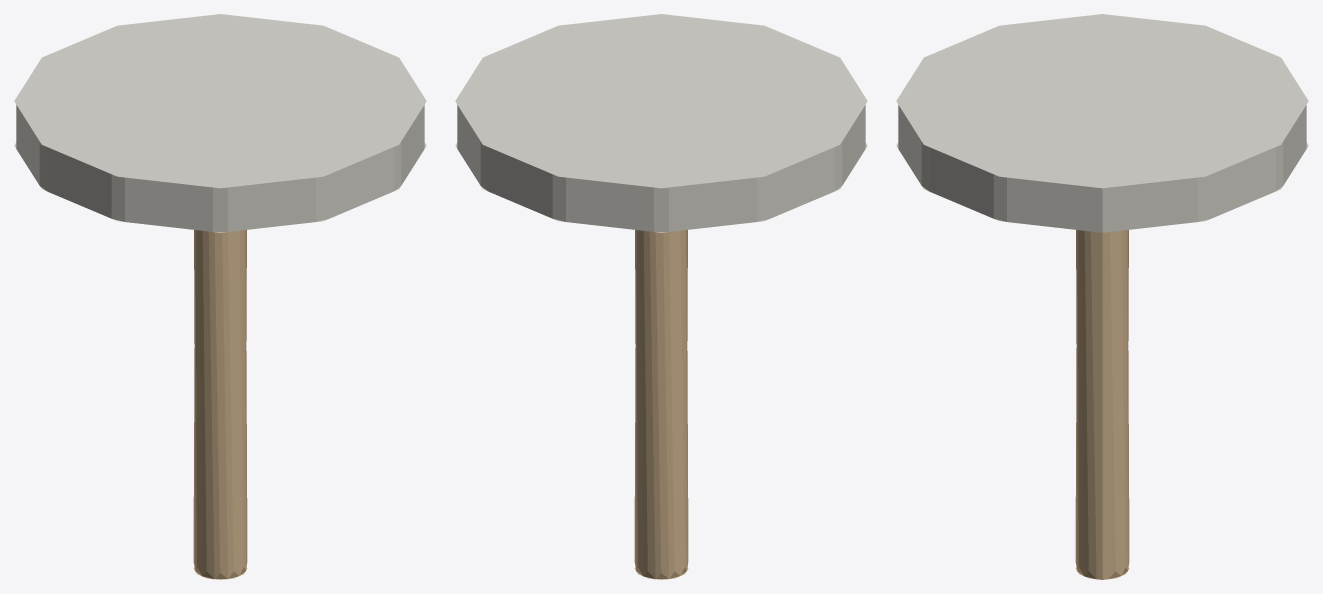
File: side_table.glb
3 views of the same model, side by side, from view 1: azimuth 30°, elevation 25°; view 2: azimuth 150°, elevation 25°; view 3: azimuth 270°, elevation 25° (orthographic).
Visible parts, largest first — view 1: side_table_stone_0, side_table_oak_1; view 2: side_table_stone_0, side_table_oak_1; view 3: side_table_stone_0, side_table_oak_1.
Boxes of the visible parts, bbox=[...] form: side_table_stone_0: bbox=[14, 14, 426, 232]; side_table_oak_1: bbox=[193, 230, 247, 579]; side_table_stone_0: bbox=[455, 14, 867, 232]; side_table_oak_1: bbox=[634, 230, 688, 579]; side_table_stone_0: bbox=[896, 14, 1308, 232]; side_table_oak_1: bbox=[1075, 230, 1129, 579].
Bounding box in the file's own units: 0.42 × 0.525 × 0.42.
